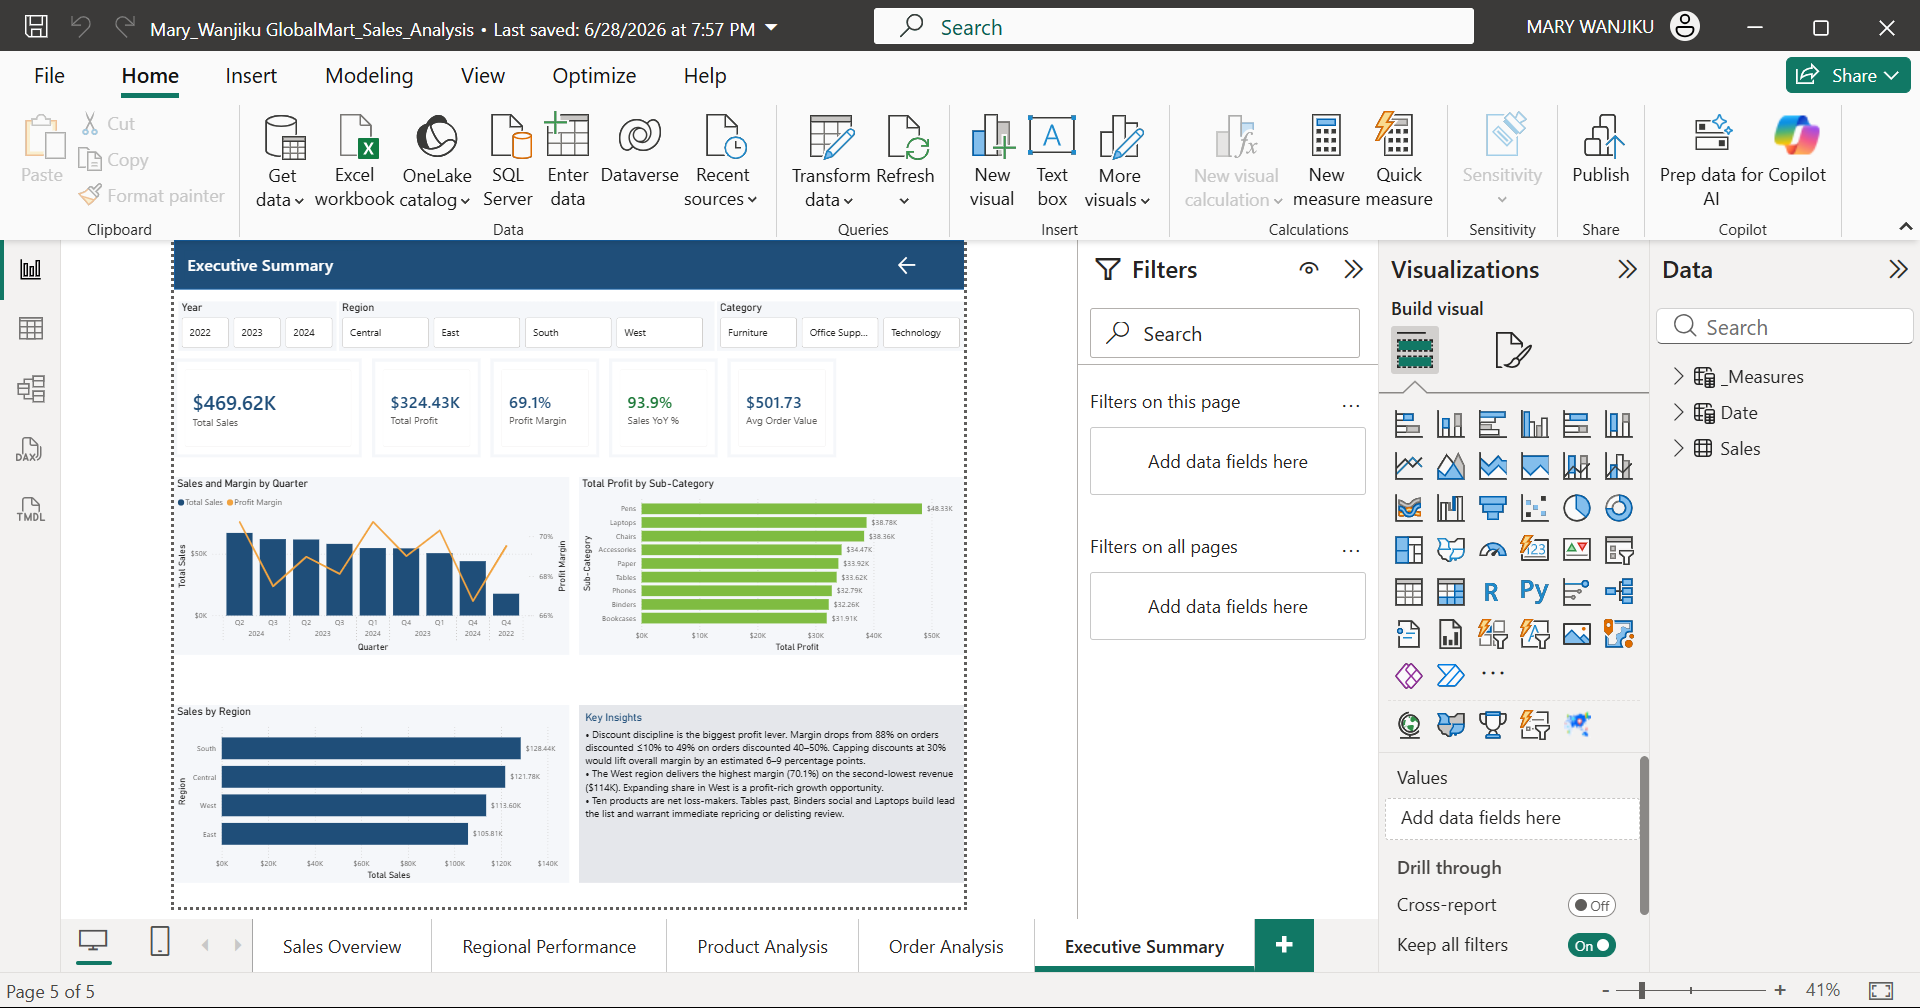

Layout of this report page (visuals, bound fields, positions):
{"tool":"powerbi","page":{"name":"Executive Summary","canvas":[1280,1080],"ordinal":4},"visuals":[{"type":"group","id":"g1","title":"Group 1","box":[0,0,1280,80],"z":0},{"type":"shape","box":[0,0,1280,80],"z":0,"group":"g1"},{"type":"textbox","box":[16,16,288,48],"z":1000,"group":"g1"},{"type":"advancedSlicerVisual","fields":{"Values":["Sales.Region"]},"box":[268.2,99.3,608,80],"z":1000},{"type":"advancedSlicerVisual","fields":{"Values":["DimDate.Year"]},"box":[8.3,99.3,256,80],"z":2000},{"type":"advancedSlicerVisual","fields":{"Values":["Sales.Category"]},"box":[880,99.3,400,80],"z":3000},{"type":"cardVisual","fields":{"Data":["_Measures.Total Sales"]},"box":[0,192,304,160],"z":4000},{"type":"cardVisual","fields":{"Data":["_Measures.Total Profit"]},"box":[320,192,176,160],"z":5000},{"type":"cardVisual","fields":{"Data":["_Measures.Profit Margin"]},"box":[512,192,176,160],"z":6000},{"type":"cardVisual","fields":{"Data":["_Measures.Sales YoY %"]},"box":[704,192,176,160],"z":7000},{"type":"cardVisual","fields":{"Data":["_Measures.Avg Order Value"]},"box":[896,192,176,160],"z":8000},{"type":"lineClusteredColumnComboChart","title":"Sales and Margin by Quarter","fields":{"Category":["DimDate.Year","DimDate.Quarter"],"Y":["_Measures.Total Sales"],"Y2":["_Measures.Profit Margin"]},"box":[0,384,640,288],"z":9000},{"type":"clusteredBarChart","fields":{"Category":["Sales.Sub-Category"],"Y":["_Measures.Total Profit"]},"box":[656,384,624,288],"z":10000},{"type":"textbox","title":"Key Insights","box":[656,752,624,288],"z":11000},{"type":"clusteredBarChart","title":"Sales by Region","fields":{"Category":["Sales.Region"],"Y":["_Measures.Total Sales"]},"box":[0,752,640,288],"z":12000},{"type":"actionButton","box":[1168,16,32,48],"z":13000}]}

Visuals, with their boxes on the page's 1280x1080 design canvas (x1, y1, x2, y2). These are canvas units, not pixel positions in the 1920x1008 screenshot, which may show the page scaled, cropped or inside an application window:
"Group 1" group: 0,0,1280,80
shape: 0,0,1280,80
textbox: 16,16,304,64
advancedSlicerVisual - Sales.Region: 268,99,876,179
advancedSlicerVisual - DimDate.Year: 8,99,264,179
advancedSlicerVisual - Sales.Category: 880,99,1280,179
cardVisual - _Measures.Total Sales: 0,192,304,352
cardVisual - _Measures.Total Profit: 320,192,496,352
cardVisual - _Measures.Profit Margin: 512,192,688,352
cardVisual - _Measures.Sales YoY %: 704,192,880,352
cardVisual - _Measures.Avg Order Value: 896,192,1072,352
"Sales and Margin by Quarter" lineClusteredColumnComboChart: 0,384,640,672
clusteredBarChart - Sales.Sub-Category x _Measures.Total Profit: 656,384,1280,672
"Key Insights" textbox: 656,752,1280,1040
"Sales by Region" clusteredBarChart: 0,752,640,1040
actionButton: 1168,16,1200,64
